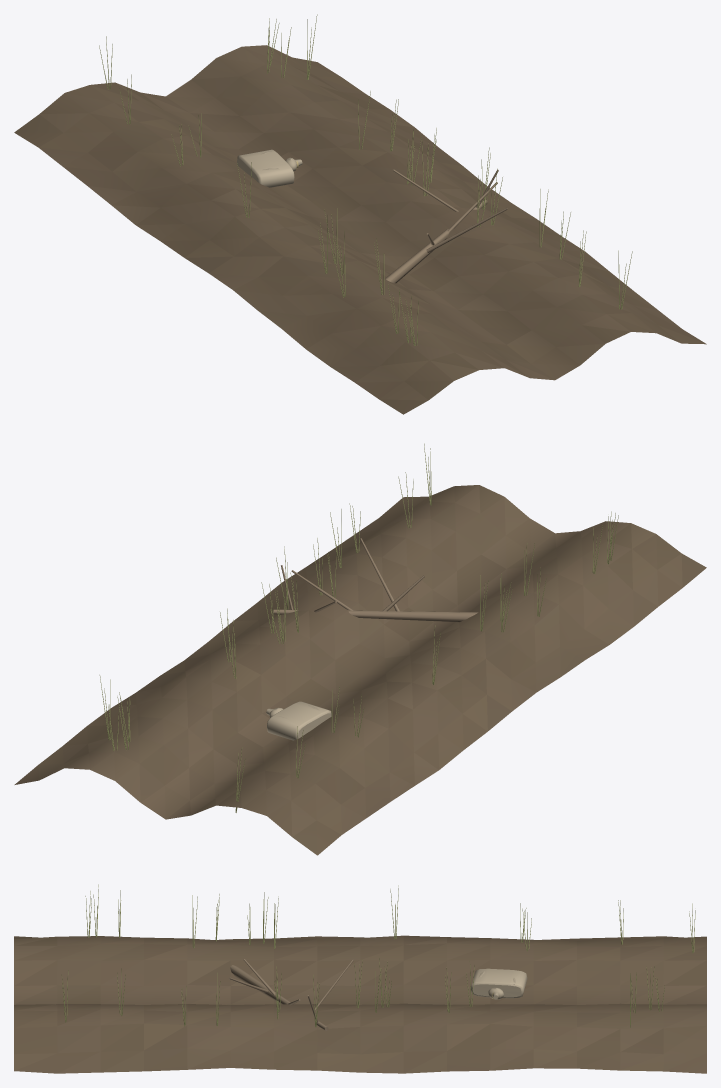
The model's file is storm_ditch_flooded_a.glb.
3 views of the same model, one above another, from view 1: azimuth 30°, elevation 25°; view 2: azimuth 150°, elevation 25°; view 3: azimuth 270°, elevation 25° (orthographic). The views are drawn at different scales.
Visible parts, largest first — view 1: body; view 2: body; view 3: body.
Boxes of the visible parts, x1,y1,x2,y2 form: body: (14, 14, 706, 414); body: (14, 443, 706, 855); body: (14, 884, 706, 1073).
Bounding box in the file's own units: 3.6 × 1.02 × 8.
